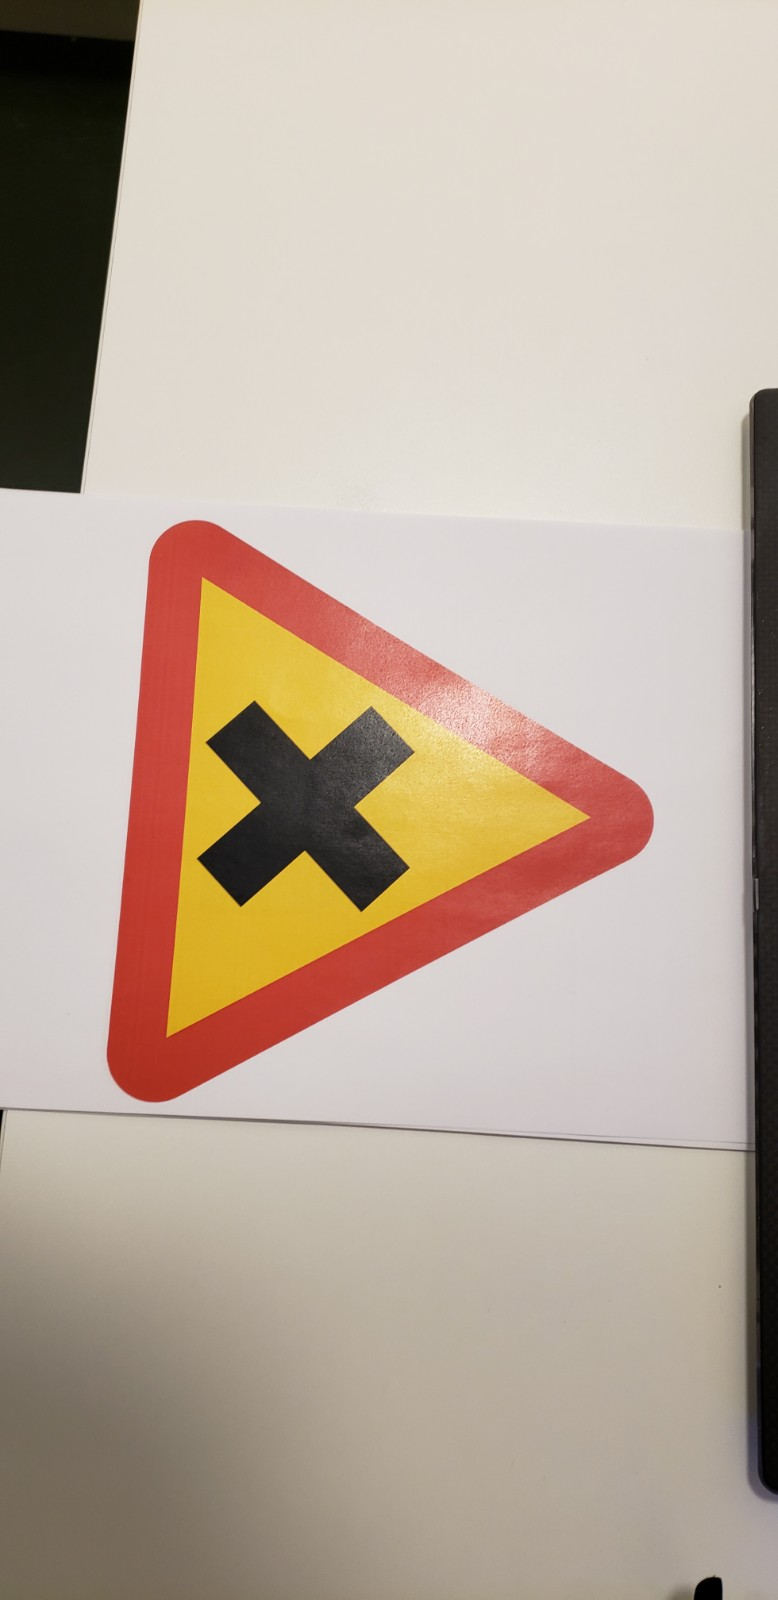junction: (43, 473, 736, 1162)
